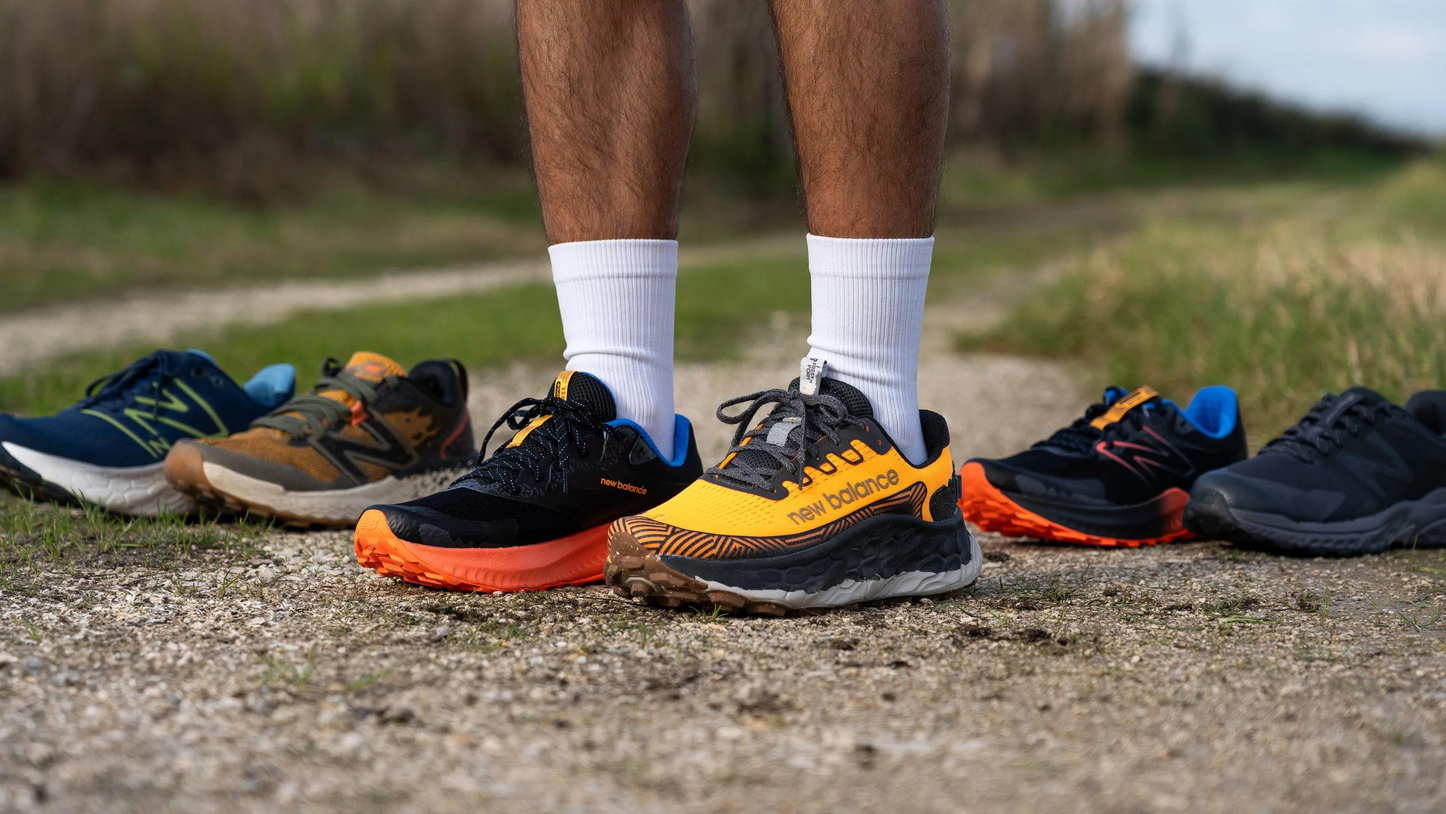NB logo: (769, 441, 922, 544), (93, 371, 231, 467), (302, 393, 428, 495), (1090, 420, 1206, 500), (1326, 422, 1424, 508), (588, 456, 670, 505)
